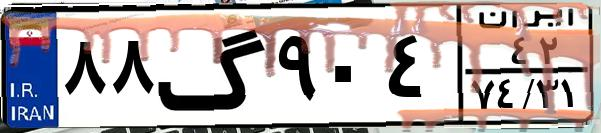0: (330, 28, 385, 110)
1: (560, 70, 590, 125)
2: (537, 27, 568, 80)
3: (535, 70, 560, 125)
4: (385, 28, 445, 110), (508, 27, 537, 80), (495, 70, 520, 125)
7: (470, 70, 495, 125)
8: (57, 26, 110, 100), (110, 28, 156, 98)
9: (270, 28, 330, 110)
گ: (156, 12, 270, 120)
